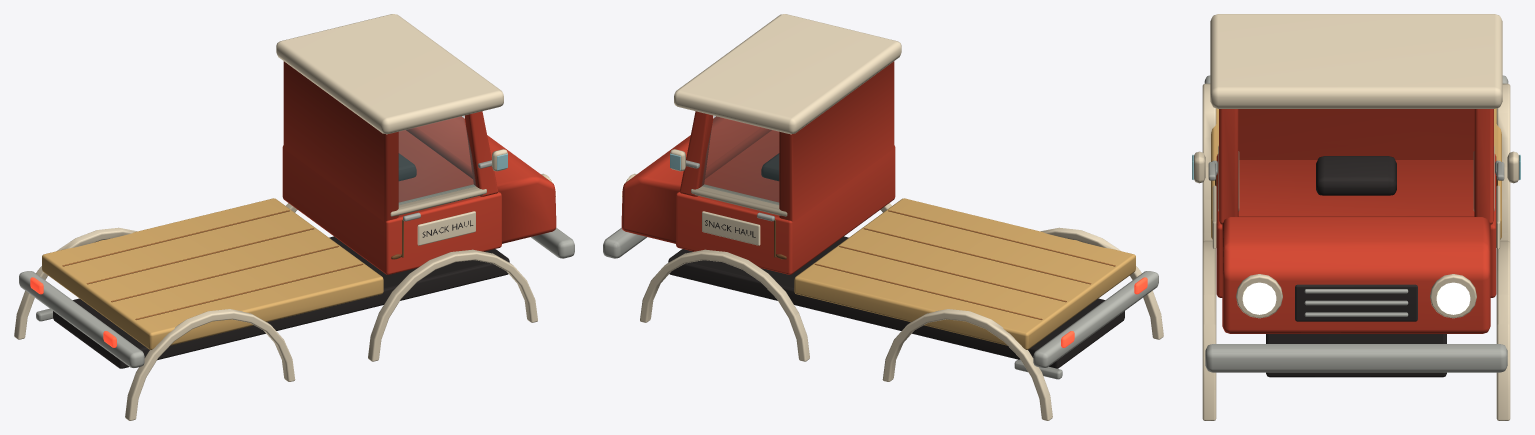
Rendered from truck_pickup.glb.
The picture shows the model from 3 angles, left to right: view 1: azimuth 30°, elevation 25°; view 2: azimuth 150°, elevation 25°; view 3: azimuth 270°, elevation 25°; orthographic projection. The views are drawn at different scales.
Visible parts, largest first — view 1: central frame, side window; view 2: central frame, side window; view 3: central frame, headlamp.
Boxes of the visible parts, x1=… form: central frame: x1=14, y1=14, x2=574, y2=420; side window: x1=399, y1=116, x2=475, y2=204; central frame: x1=603, y1=14, x2=1163, y2=420; side window: x1=702, y1=116, x2=778, y2=204; central frame: x1=1192, y1=14, x2=1520, y2=420; headlamp: x1=1242, y1=282, x2=1470, y2=314.
Bounding box in the file's own units: 4.25 × 2.14 × 2.03.
